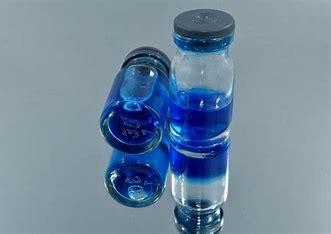Syringe: (169, 6, 238, 162), (96, 44, 174, 156)
